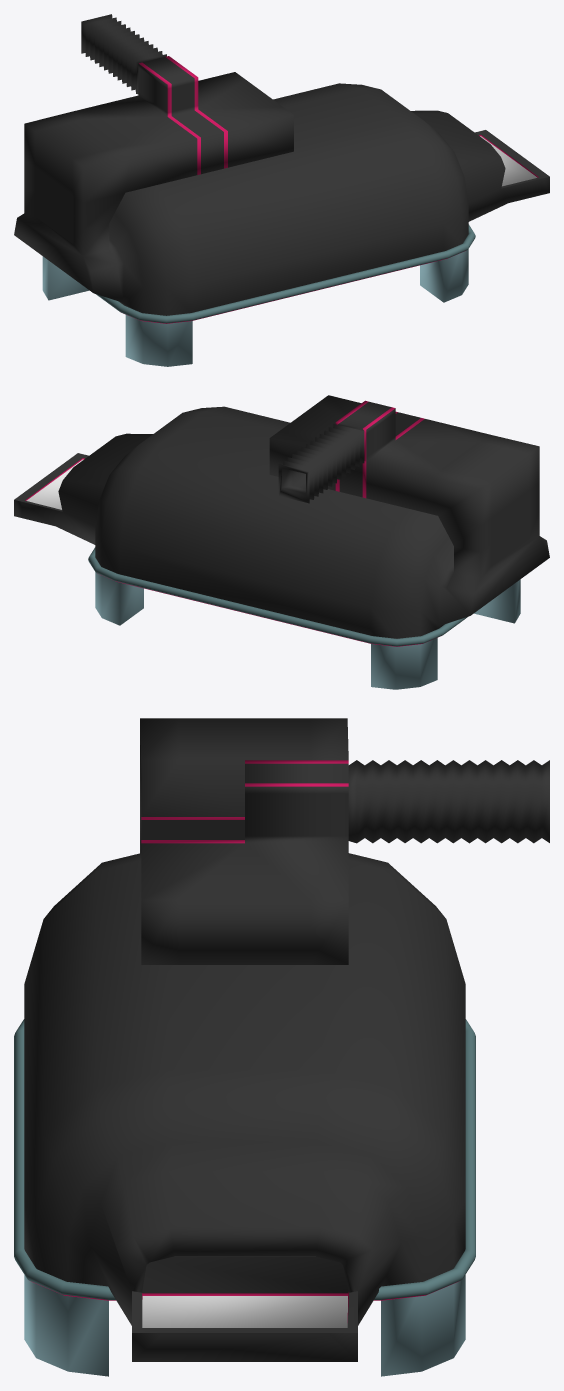
File: BlackBox.fbx
3 views of the same model, one above another, from view 1: azimuth 30°, elevation 25°; view 2: azimuth 150°, elevation 25°; view 3: azimuth 270°, elevation 25° (orthographic). The views are drawn at different scales.
Parts seen in each view (by area): view 1: BlackBox, BlackBox.001; view 2: BlackBox, BlackBox.001; view 3: BlackBox, BlackBox.001.
Part boxes in pixels (<box>): BlackBox: <box>14,14,549,366</box>; BlackBox.001: <box>96,224,475,323</box>; BlackBox: <box>14,395,549,689</box>; BlackBox.001: <box>88,547,467,646</box>; BlackBox: <box>24,718,549,1376</box>; BlackBox.001: <box>14,1019,475,1300</box>.
Size of the model in its own units: 673 by 381 by 311.
